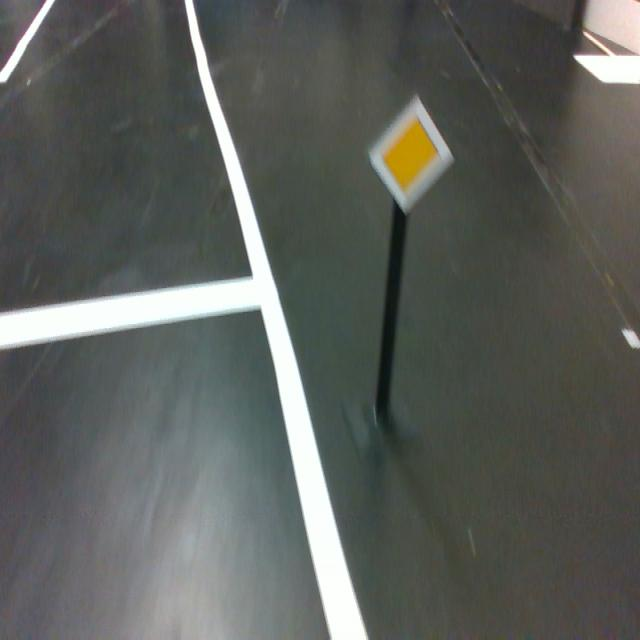priority-sign: (369, 94, 454, 216)
